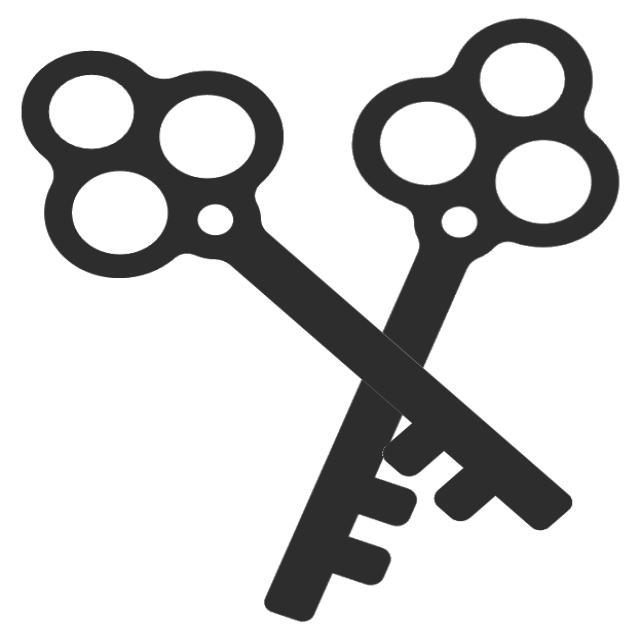key: (6, 17, 610, 596), (250, 10, 629, 636)
